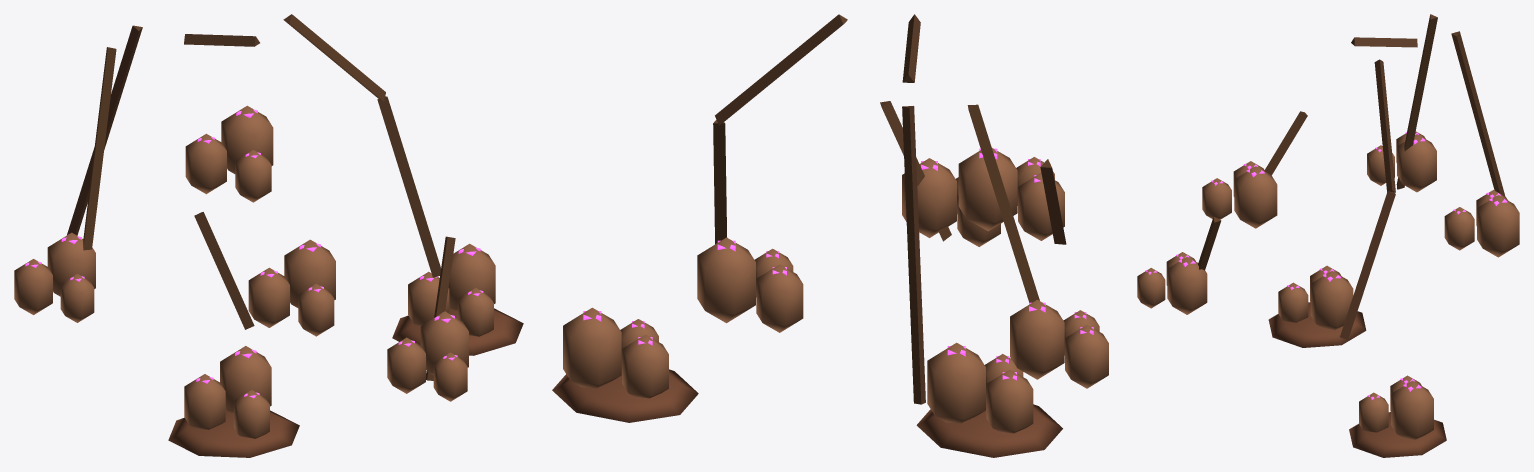
The model's file is overworld-settlement-eggs-north-american-city.glb.
The picture shows the model from 3 angles, left to right: view 1: azimuth 30°, elevation 25°; view 2: azimuth 150°, elevation 25°; view 3: azimuth 270°, elevation 25°; orthographic projection. The views are drawn at different scales.
Parts seen in each view (by area): view 1: settlement_eggs; view 2: settlement_eggs; view 3: settlement_eggs.
Part boxes in pixels (<box>): settlement_eggs: <box>14,14,523,457</box>; settlement_eggs: <box>552,14,1108,457</box>; settlement_eggs: <box>1137,14,1519,457</box>.
Size of the model in its own units: 0.5473 by 0.395 by 0.4484.
